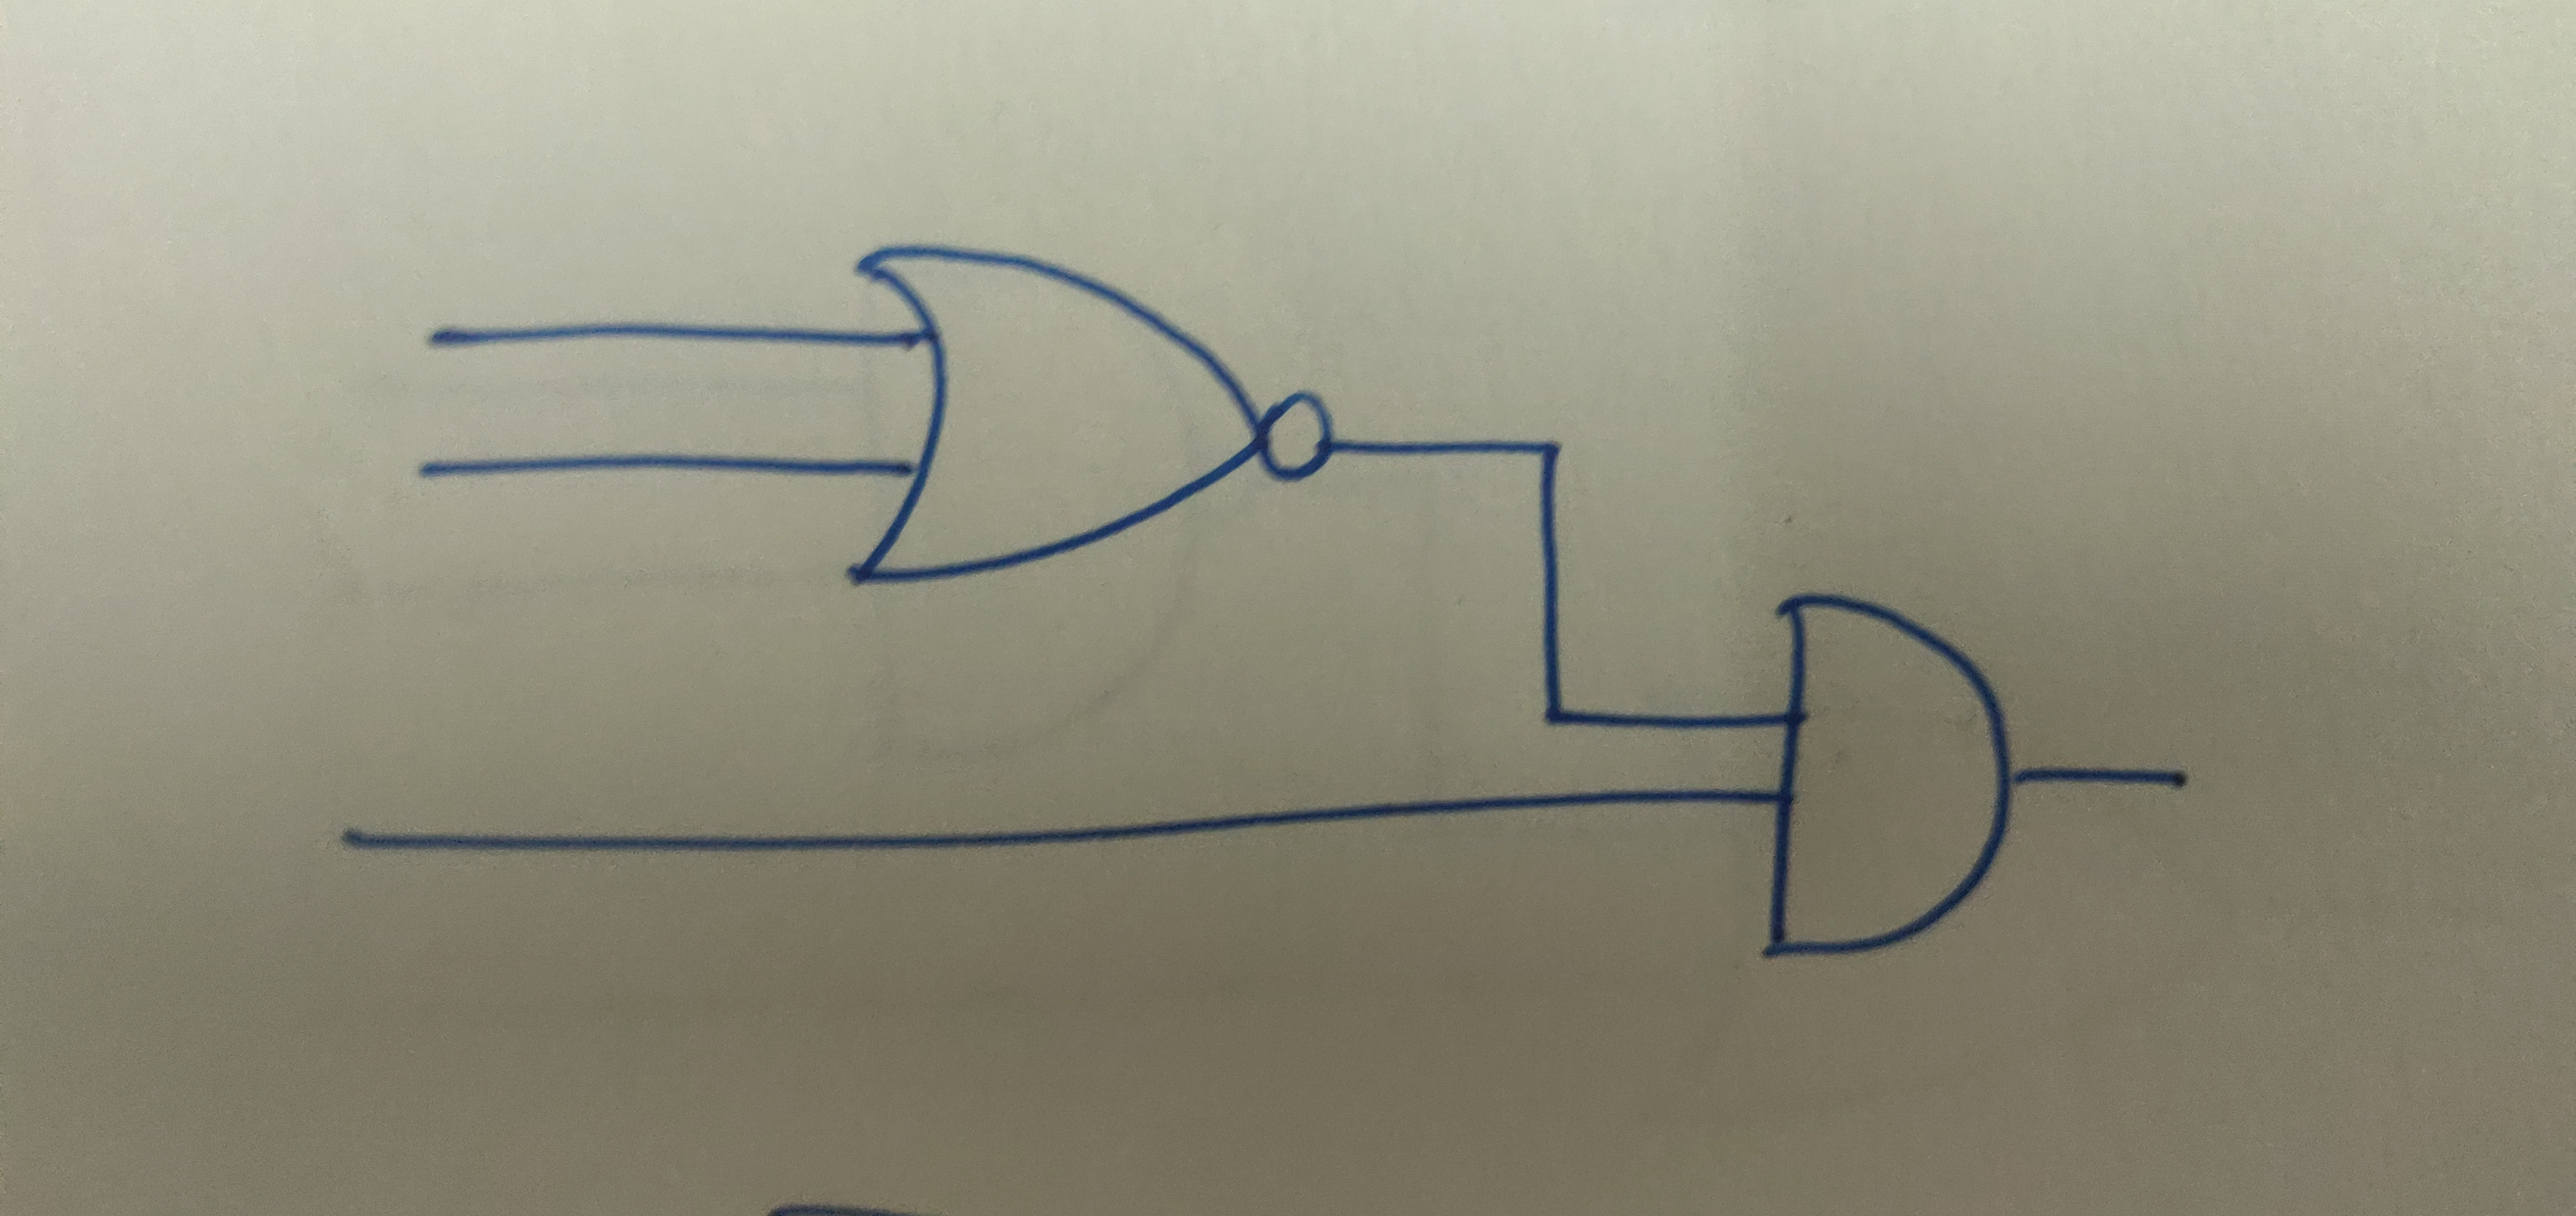and: (1758, 588, 2017, 963)
not: (1252, 385, 1337, 493)
or: (851, 240, 1265, 592)
